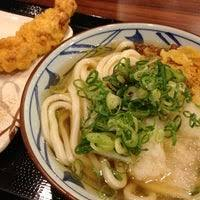kitune: (61, 38, 200, 196)
